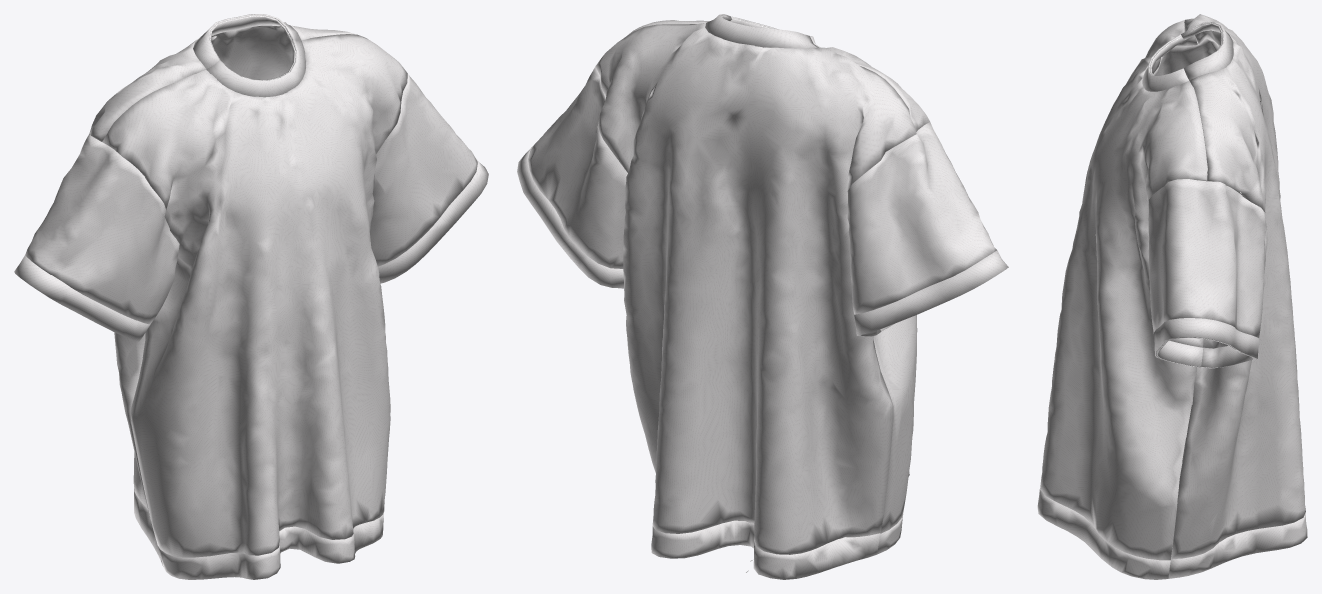
Rendered from camiseta 1.glb.
The picture shows the model from 3 angles, left to right: view 1: azimuth 30°, elevation 25°; view 2: azimuth 150°, elevation 25°; view 3: azimuth 270°, elevation 25°; orthographic projection. The views are drawn at different scales.
Visible parts, largest first — view 1: camisaeta; view 2: camisaeta; view 3: camisaeta.
Boxes of the visible parts, left/top/right/bottom form: camisaeta: left=14, top=14, right=488, bottom=579; camisaeta: left=517, top=14, right=1008, bottom=579; camisaeta: left=1037, top=14, right=1307, bottom=579.
Size of the model in its own units: 2.61 by 2.74 by 1.35.
Materials: 2 (1 with a texture image).
